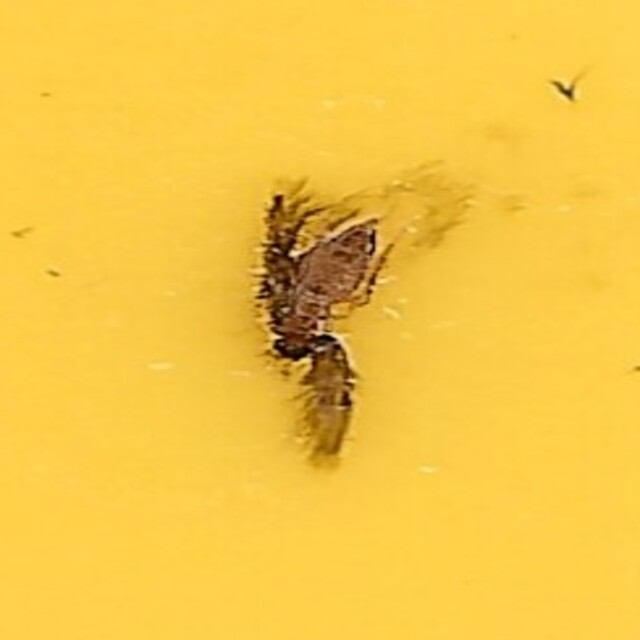Trichoptera: (262, 174, 378, 466)
